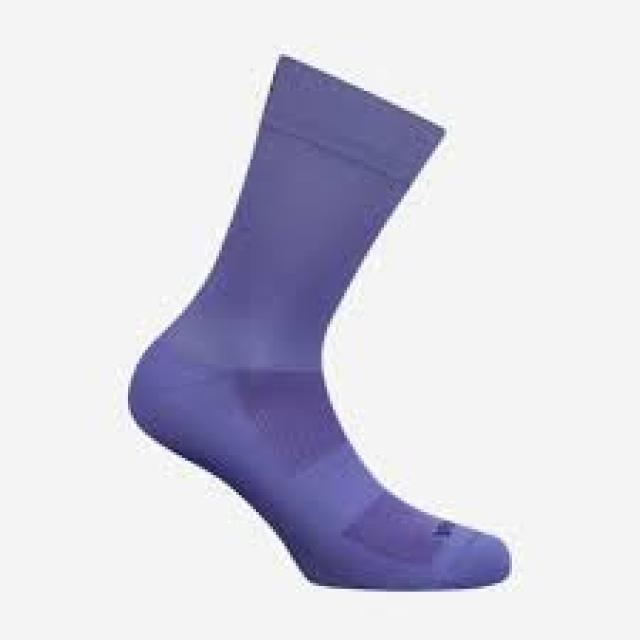sock: (125, 51, 512, 592)
